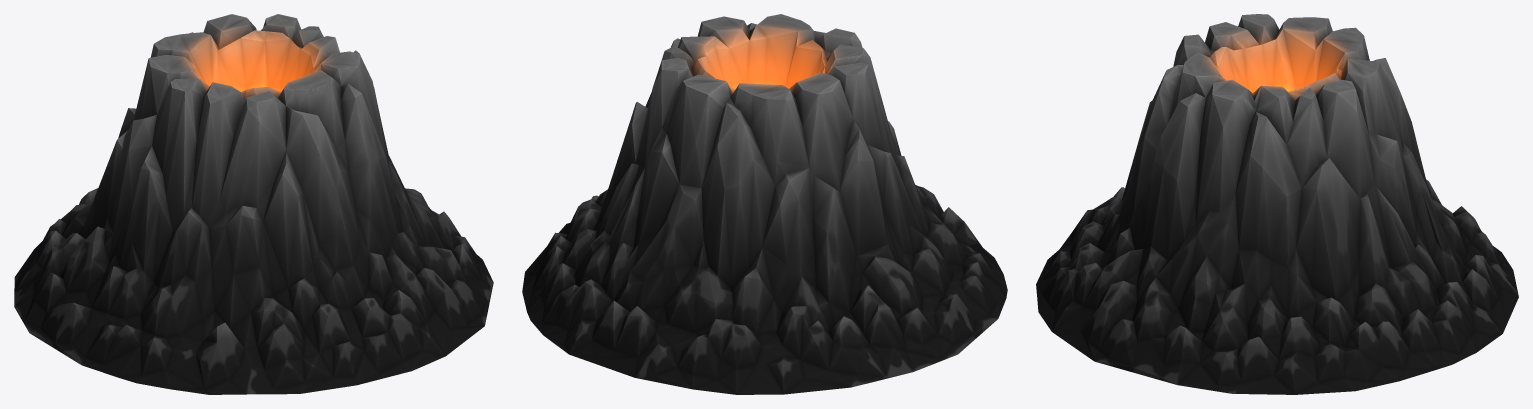
The picture shows the model from 3 angles, left to right: view 1: azimuth 30°, elevation 25°; view 2: azimuth 150°, elevation 25°; view 3: azimuth 270°, elevation 25°; orthographic projection.
Visible parts, largest first — view 1: Volcano; view 2: Volcano; view 3: Volcano.
Part boxes in pixels (x1=…): Volcano: x1=14, y1=14, x2=493, y2=394; Volcano: x1=522, y1=14, x2=1007, y2=394; Volcano: x1=1036, y1=14, x2=1518, y2=394.
Bounding box in the file's own units: 8.92 × 4.81 × 8.91.
Materials: 1 (1 with a texture image).
